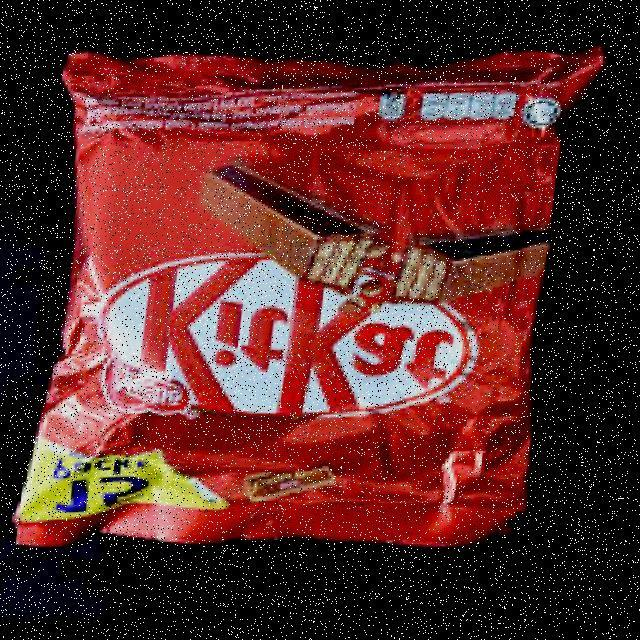kitkat_chocolate: (57, 38, 540, 570)
